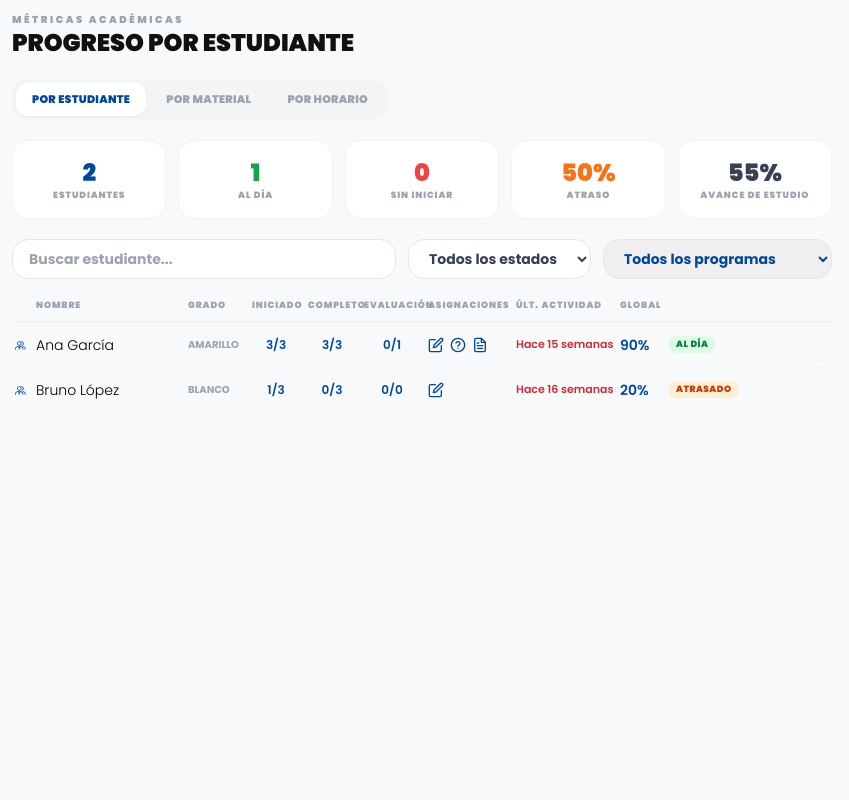
Test case: PanelMetricasEstudiantes › vista Por Horario › al hacer click en "Por Horario" carga los logs y muestra el panel de patrones
Expected: the text "Ana García" is shown, [36,334,114,354]
Click the button "Por Horario": (328, 99) [272,83,384,116]
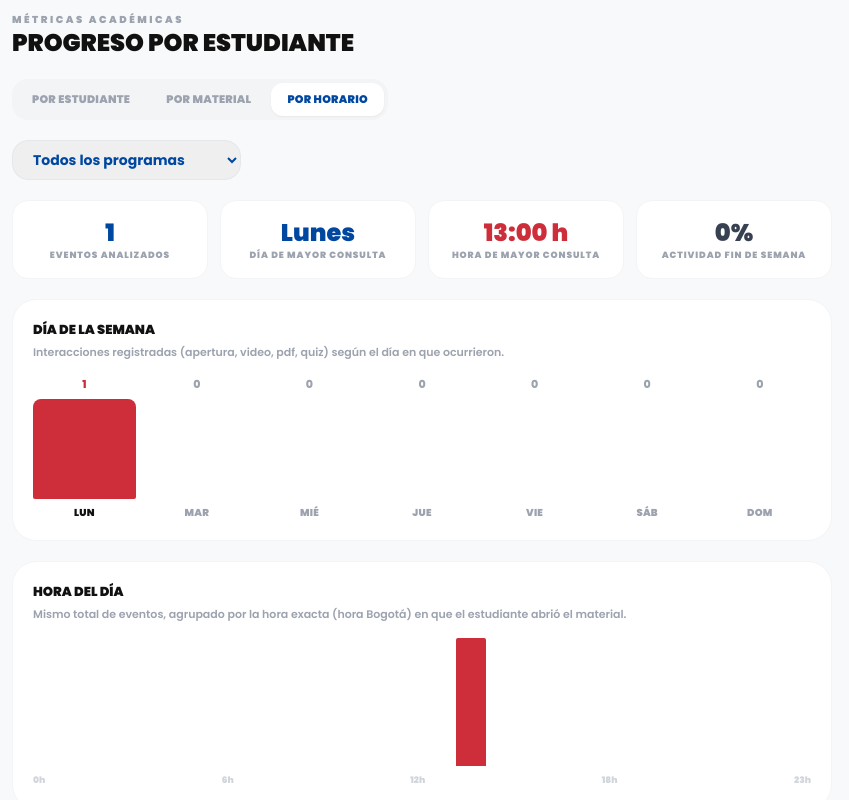
Expected: the element named "Resumen de patrones de horario" is shown, [12,200,832,279]
